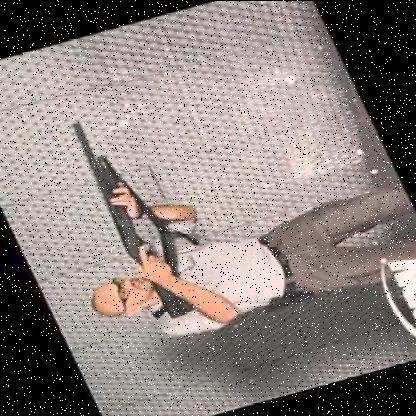rifle: (60, 107, 207, 328)
